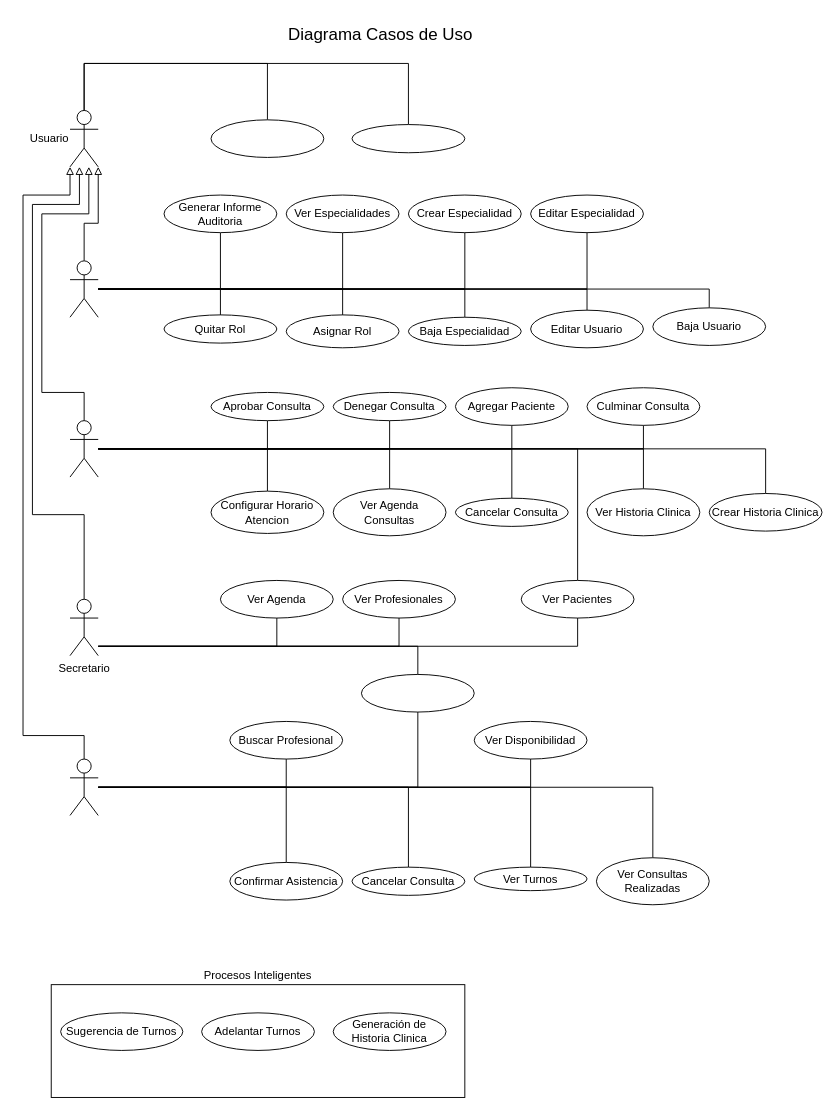
Image size: 838x1114. Some labels were removed from this diagram. The centre of each missing label's shape, as x and y in pixels:
Administrador: [83,288]
Iniciar Sesion: [408,138]
Paciente: [83,786]
Profesional: [83,448]
Registrarse: [267,138]
Solicitar Consulta: [417,693]
